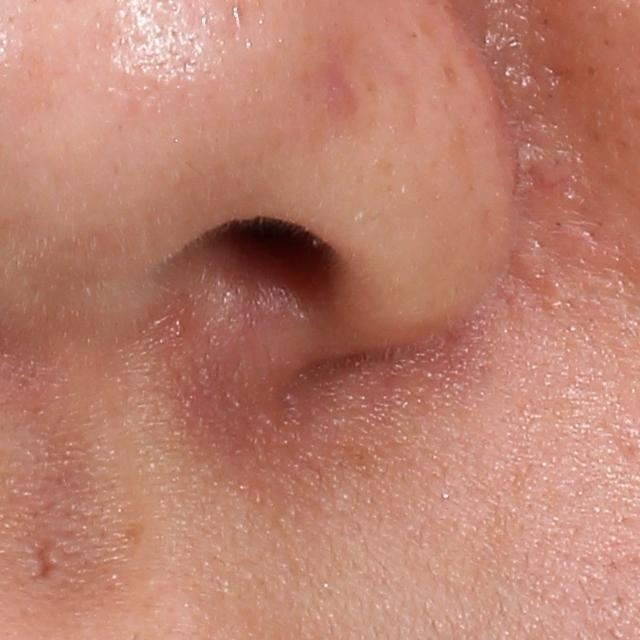atrophic_scar: (29, 533, 59, 587)
